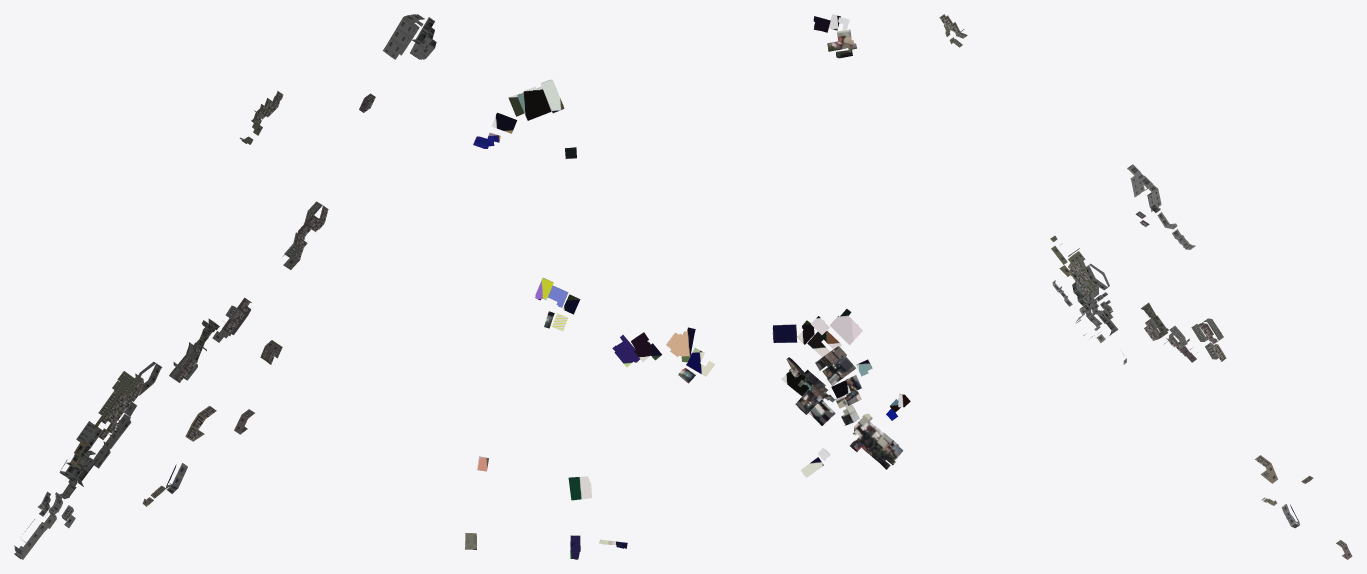
File: tile_LOD8_r4_c1.glb
3 renders of one model, left to right at view 1: azimuth 30°, elevation 25°; view 2: azimuth 150°, elevation 25°; view 3: azimuth 270°, elevation 25°, orthographic. The views are drawn at different scales.
Size of the model in its own units: 268 by 303 by 244.
123 materials, 123 textured.
